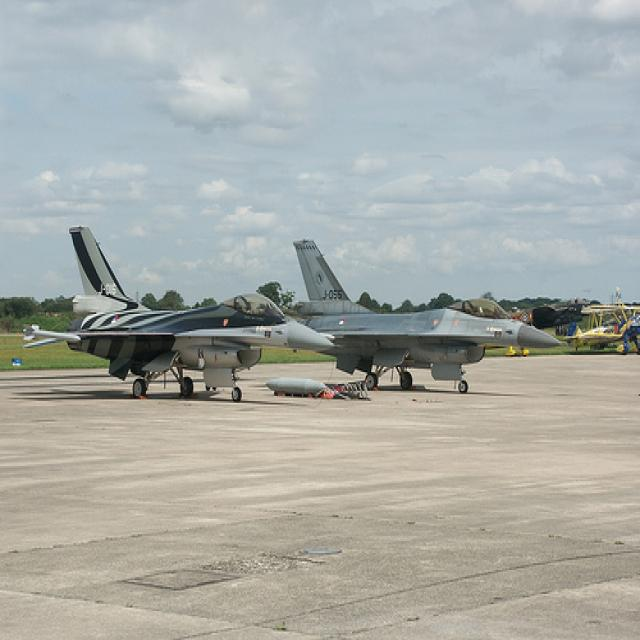aeroplane: (23, 225, 335, 404), (291, 238, 563, 394), (557, 301, 640, 363)
